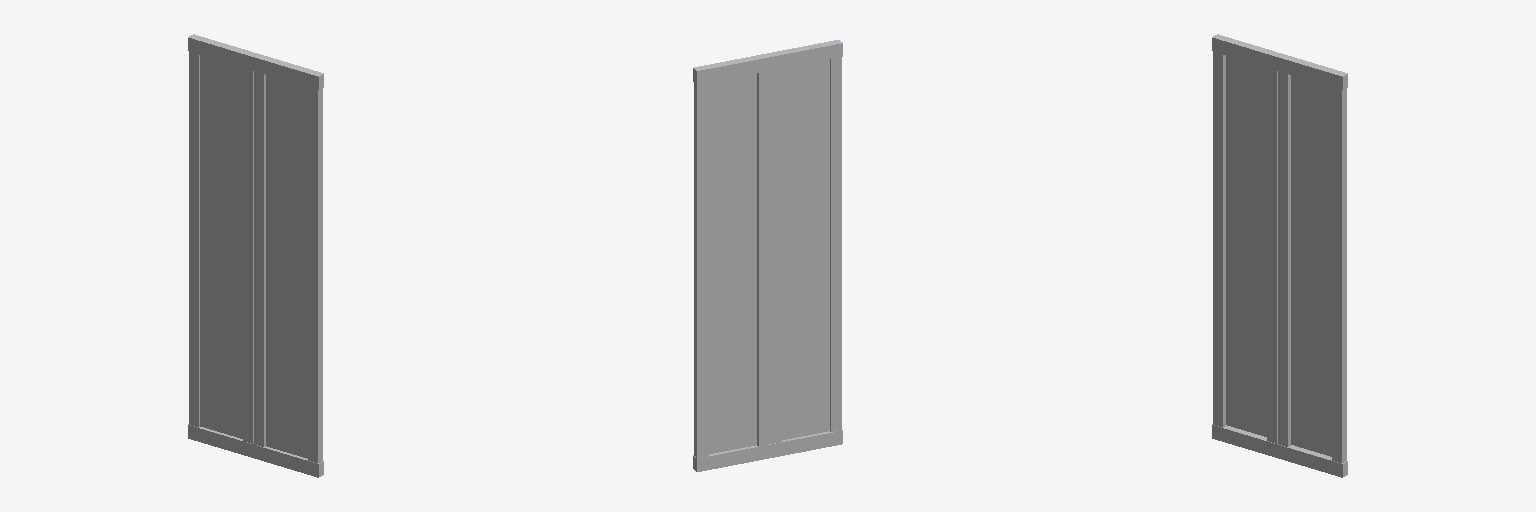
3 renders of one model, left to right at view 1: azimuth 90°, elevation 25°; view 2: azimuth 150°, elevation 25°; view 3: azimuth 270°, elevation 25°, orthographic.
Parts seen in each view (by area): view 1: Bistro_Research_Exterior_paris_building_05_5053; view 2: Bistro_Research_Exterior_paris_building_05_5053; view 3: Bistro_Research_Exterior_paris_building_05_5053.
Part boxes in pixels (x1,y1,x2,y2): Bistro_Research_Exterior_paris_building_05_5053: (188, 34, 323, 477); Bistro_Research_Exterior_paris_building_05_5053: (693, 40, 842, 471); Bistro_Research_Exterior_paris_building_05_5053: (1212, 34, 1347, 477).
Bounding box in the file's own units: 0.6382 × 2.8 × 0.8622.